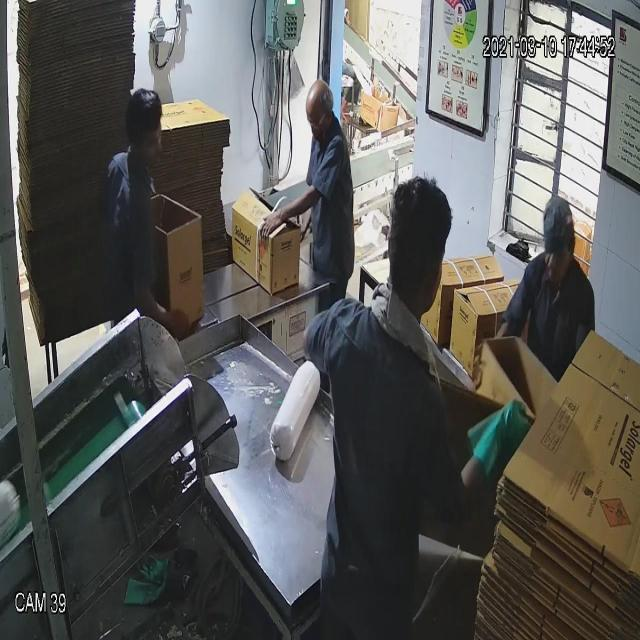gloves: (461, 388, 543, 482)
no-gloves: (133, 260, 193, 354), (252, 186, 332, 252)
